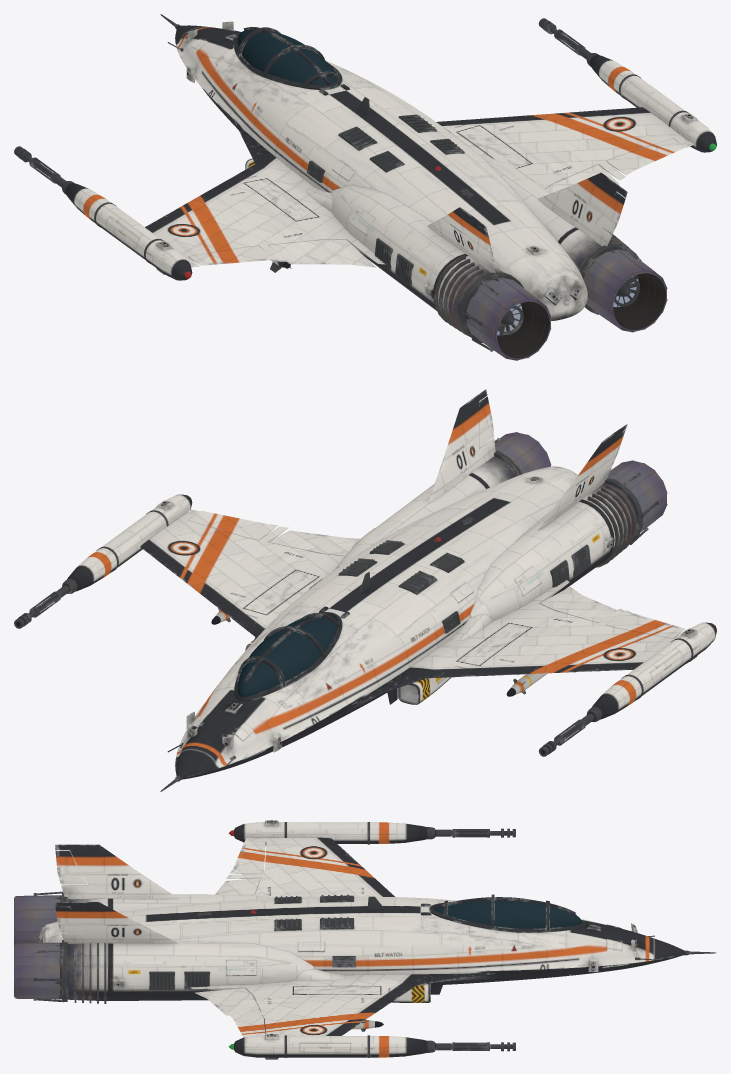
Rendered from fighter.glb.
3 views of the same model, one above another, from view 1: azimuth 30°, elevation 25°; view 2: azimuth 150°, elevation 25°; view 3: azimuth 270°, elevation 25° (orthographic). The views are drawn at different scales.
Visible parts, largest first — view 1: hull, glass; view 2: hull, glass; view 3: hull, glass.
Part boxes in pixels (x1,y1,x2,y2): hull: (14, 14, 716, 360); glass: (237, 29, 337, 85); hull: (14, 389, 716, 791); glass: (237, 615, 336, 696); hull: (14, 820, 716, 1059); glass: (433, 897, 581, 928).
Size of the model in its own units: 11.33 by 2.45 by 15.08.
2 materials, 1 textured.
